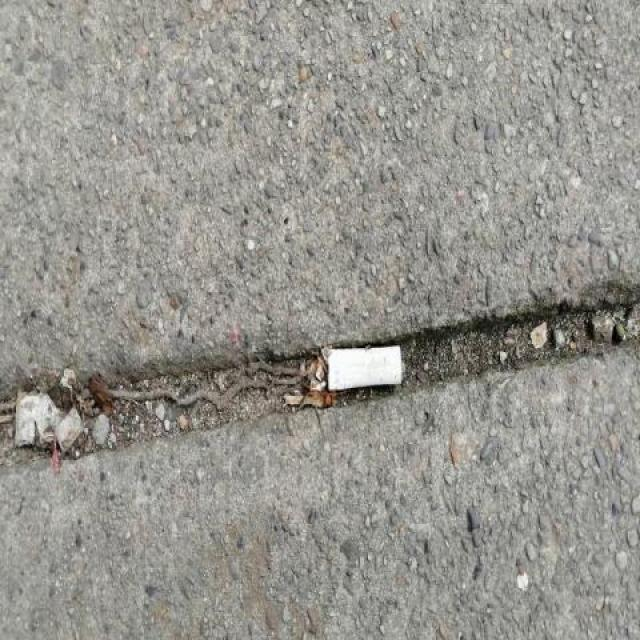non-organic waste: (319, 342, 409, 394)
